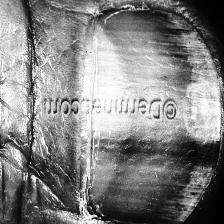Potentially Malignant Skin Tumors: (177, 10, 224, 224)
